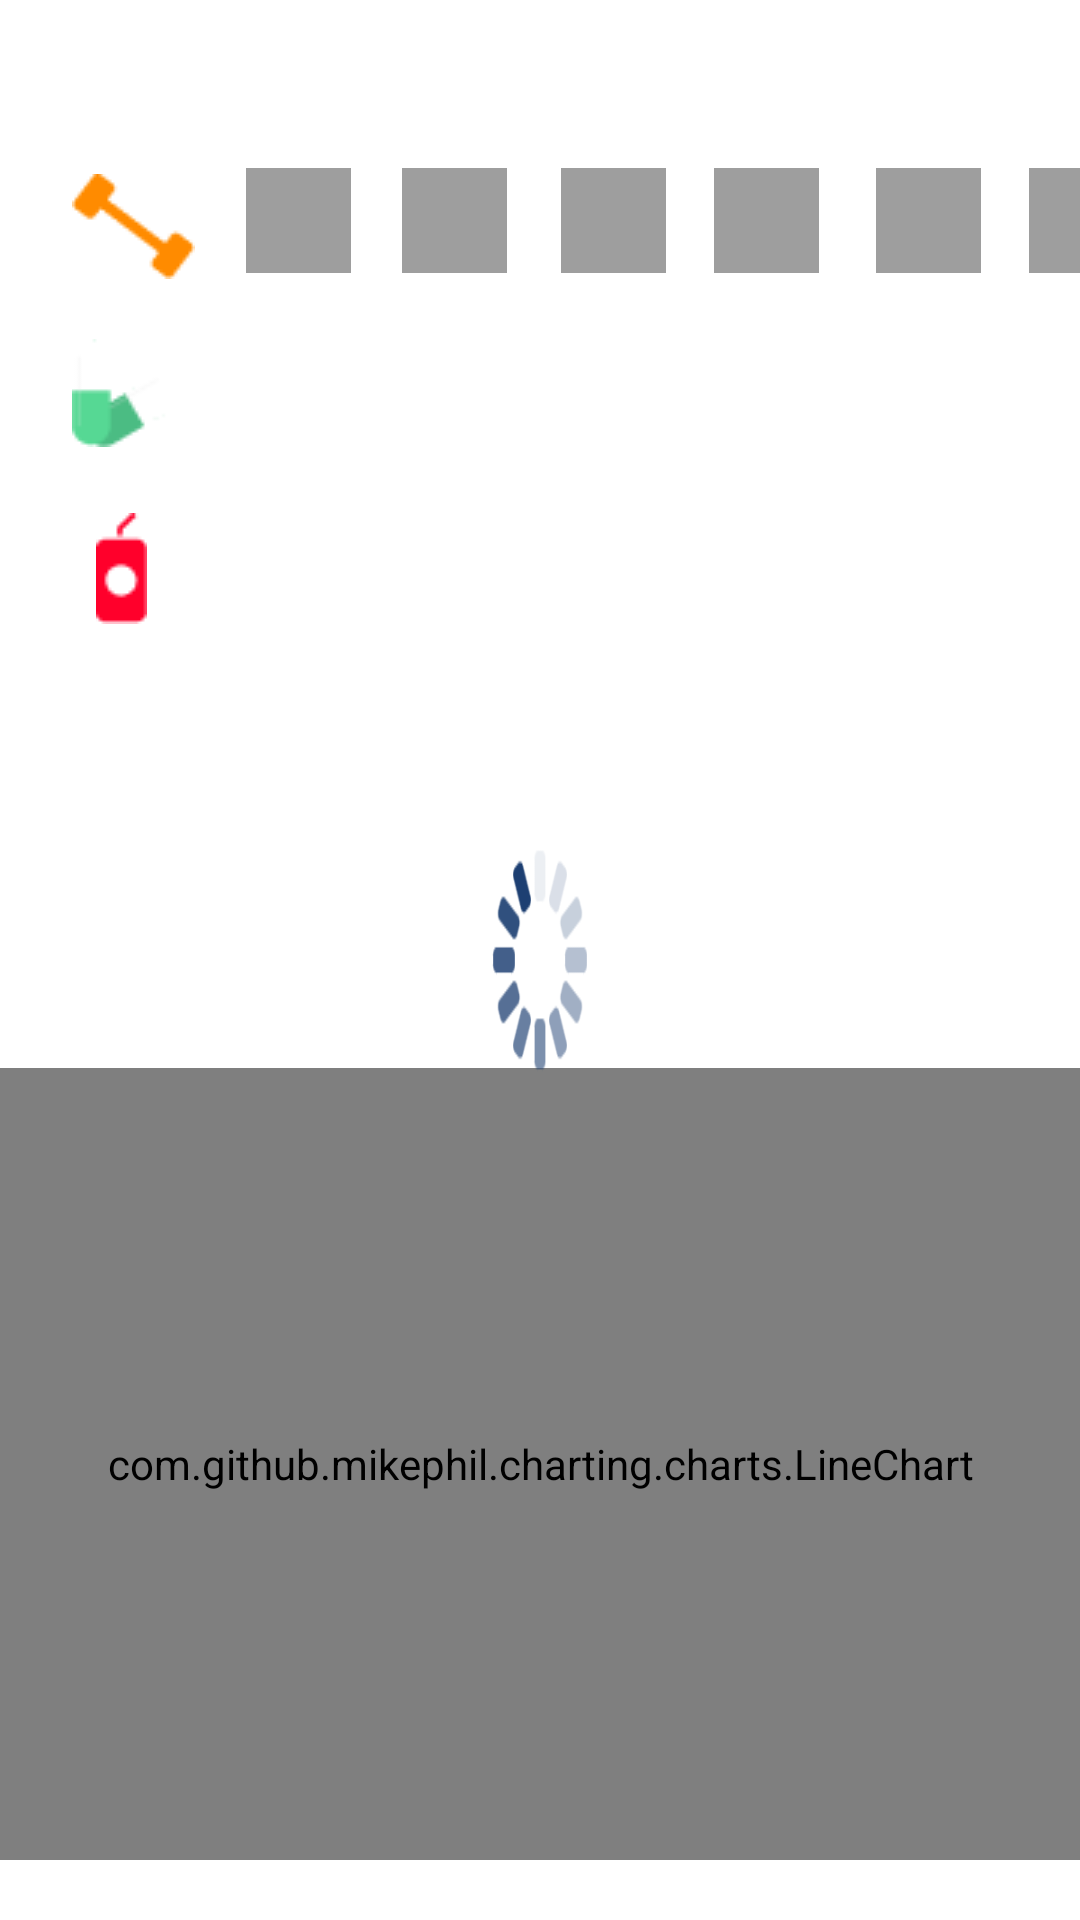

Where icons sit on this 1080×1920 app screen, as bbox=[x1, y1, x2, y2]:
bebida: bbox=[96, 513, 147, 624]
halter: bbox=[72, 174, 195, 279]
loading: bbox=[450, 861, 630, 1170]
